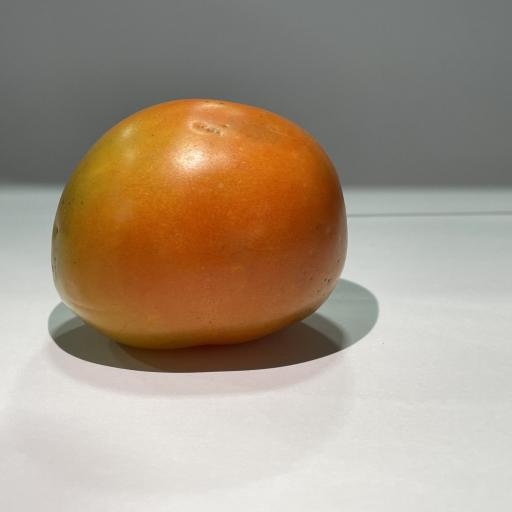unripe: (51, 99, 347, 349)
